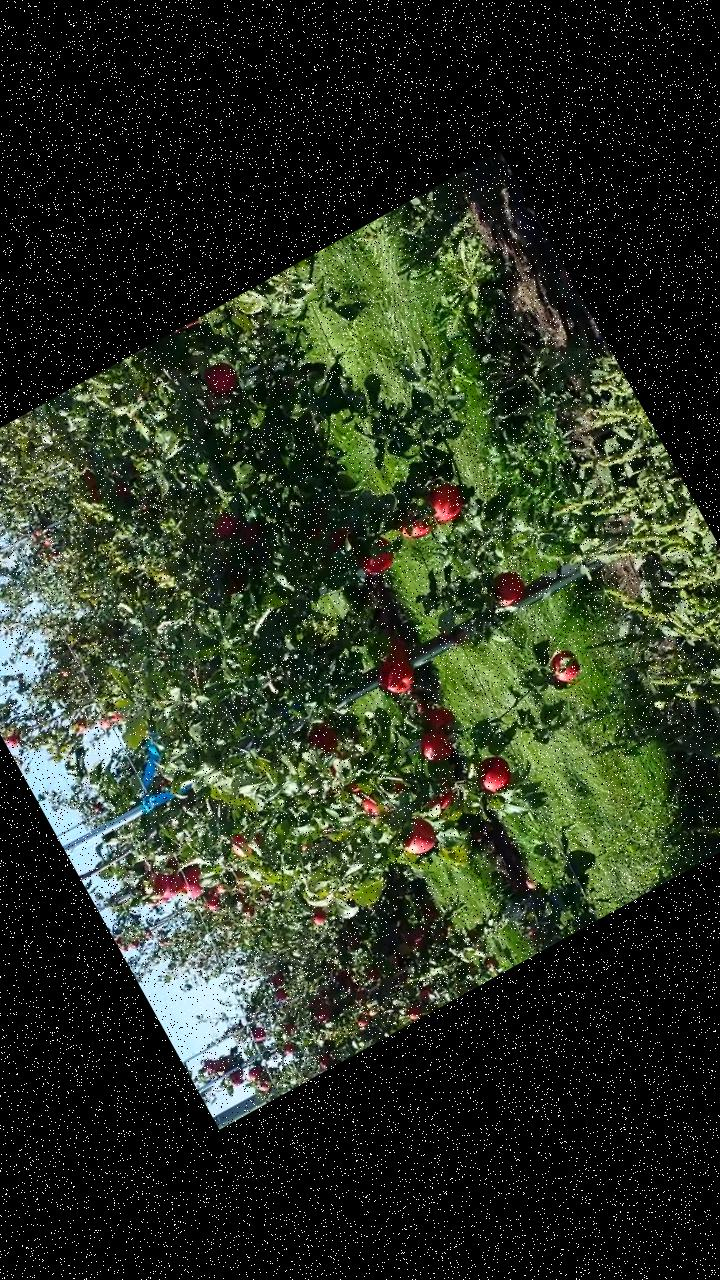Apple: (370, 650, 421, 700), (419, 478, 470, 528), (391, 812, 440, 862), (470, 748, 518, 796), (352, 535, 400, 580), (198, 356, 244, 402), (485, 565, 530, 611), (413, 724, 457, 767), (146, 859, 188, 902), (544, 648, 584, 688), (224, 824, 266, 862), (303, 721, 341, 760), (174, 862, 210, 901), (206, 508, 243, 543), (397, 514, 433, 546), (424, 701, 458, 734), (233, 517, 266, 549), (384, 636, 414, 666), (424, 788, 457, 815), (320, 526, 350, 554), (357, 792, 382, 821), (346, 779, 362, 797), (389, 780, 404, 795)
